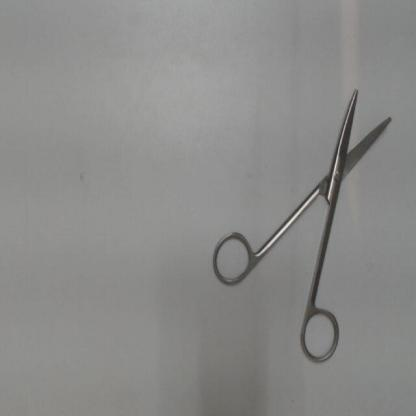Curved Mayo Scissors: (208, 76, 400, 371)
